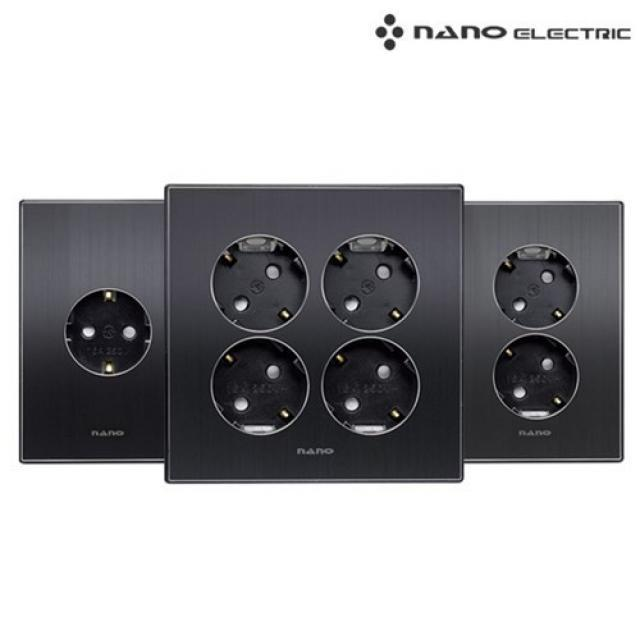typeb: (163, 154, 475, 530), (0, 157, 161, 528), (457, 169, 630, 512)
